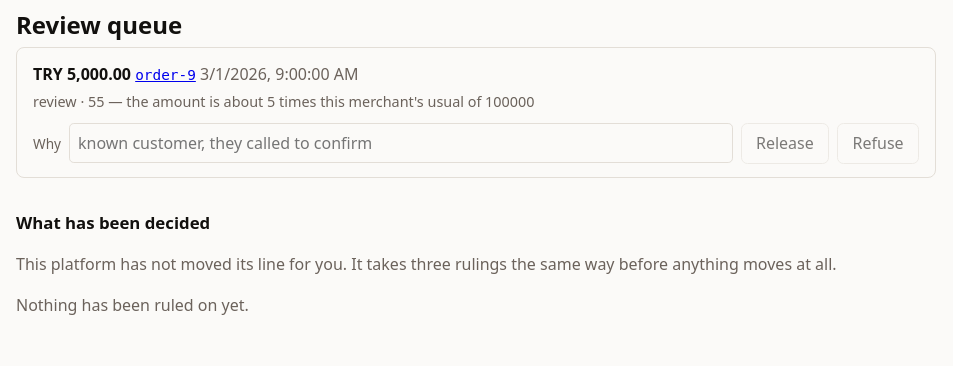
Test: the review queue › says so when somebody else ruled first, rather than showing a status code
Expected: the text "TRY 5,000.00" is shown, top-left (33, 63), bottom-right (131, 85)
Type "looks fine" into the field labelled "Why" at (401, 143), box top-left (69, 123), bottom-right (733, 163)
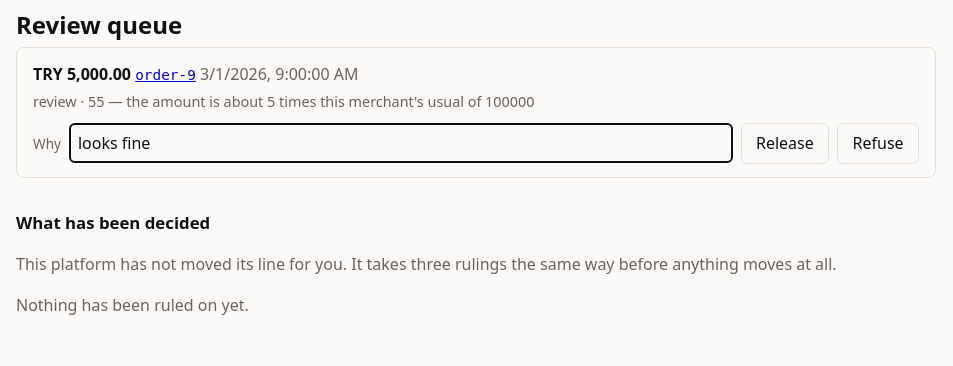
Click the button "Release" at (785, 143), box top-left (741, 122), bottom-right (829, 164)
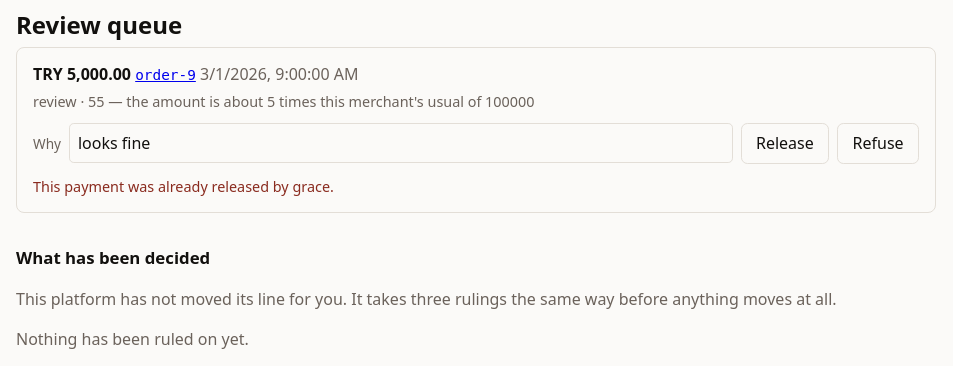
Expected: the message shows "already released by grace", top-left (33, 177), bottom-right (334, 196)
